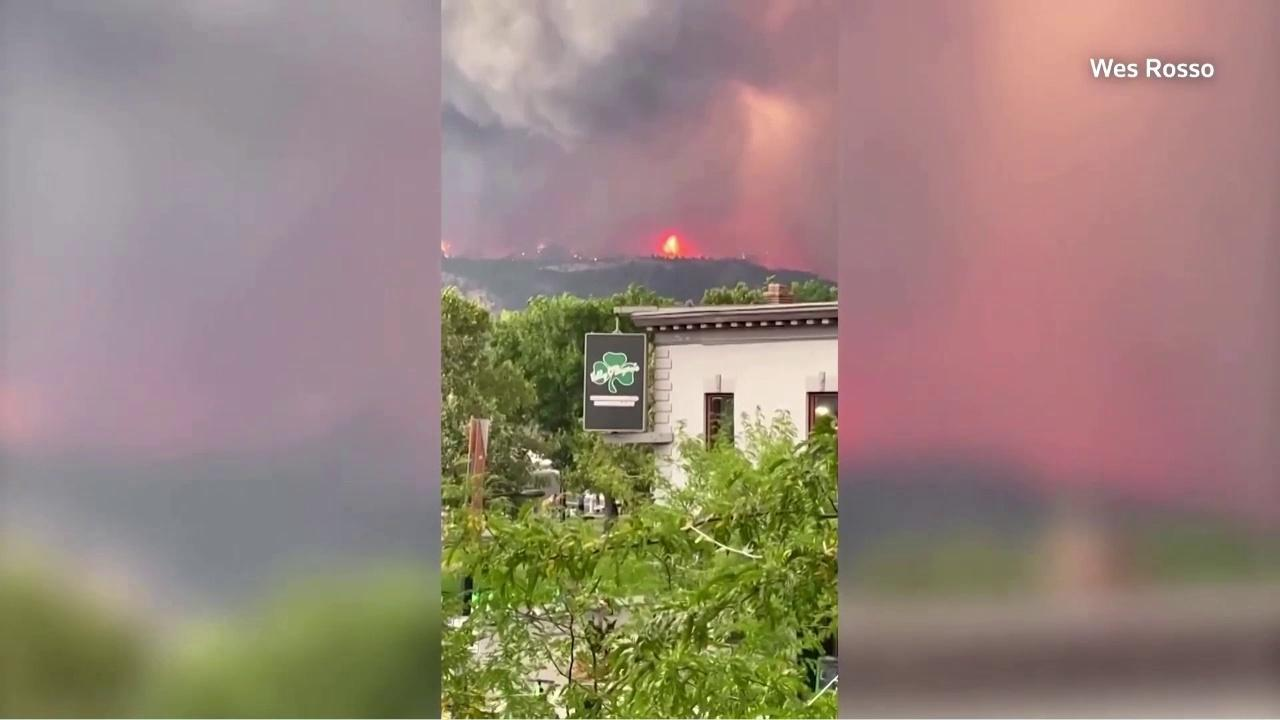fire: (649, 228, 704, 261), (439, 238, 456, 261), (573, 254, 578, 258), (594, 257, 598, 261)
smoke: (440, 11, 838, 287)
